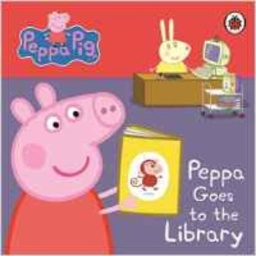Peppa: (5, 80, 129, 256)
